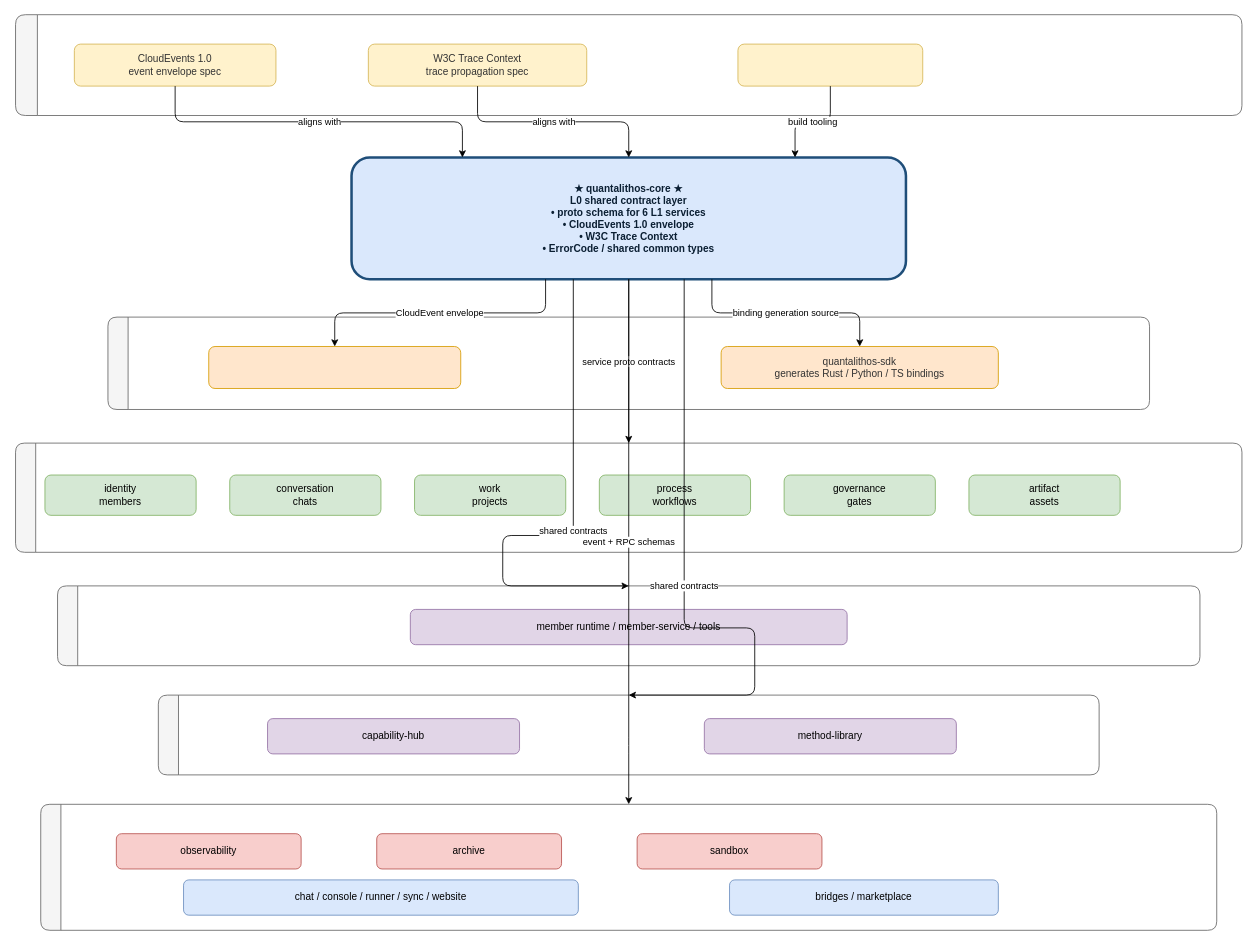
Some shapes in this 1257 by 945 pixel diagram are drawn without their labels. Each missing label, with the box of its shape:
buf.build build tooling: (737, 43, 923, 86)
External standards & ecosystem: (15, 14, 1242, 116)
L1 six domains: (15, 442, 1242, 552)
L2 runtime consumers: (57, 585, 1200, 666)
L3 method capability consumers: (158, 694, 1099, 775)
L4 / L5 / L6 consumers: (40, 803, 1217, 930)
Primary direct consumers: (107, 316, 1150, 410)
quantalithos-bus consumes CloudEvent envelope: (208, 346, 461, 388)
